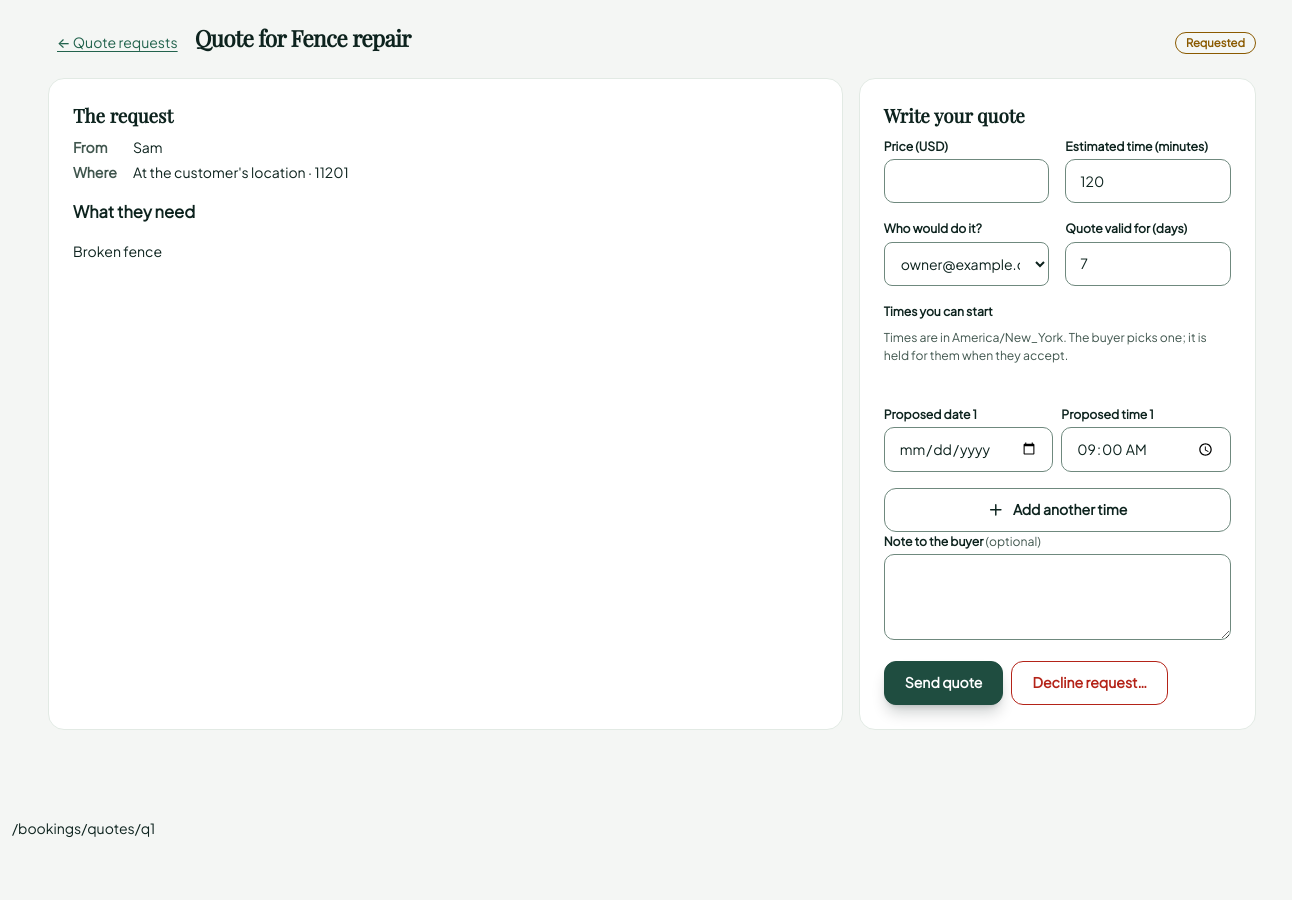
it: review fixes: quotes › reloads and says so when sending a quote hits a version conflict
Type "100" into the field labelled "Price (USD)" at (967, 182), box [884,160,1049,204]
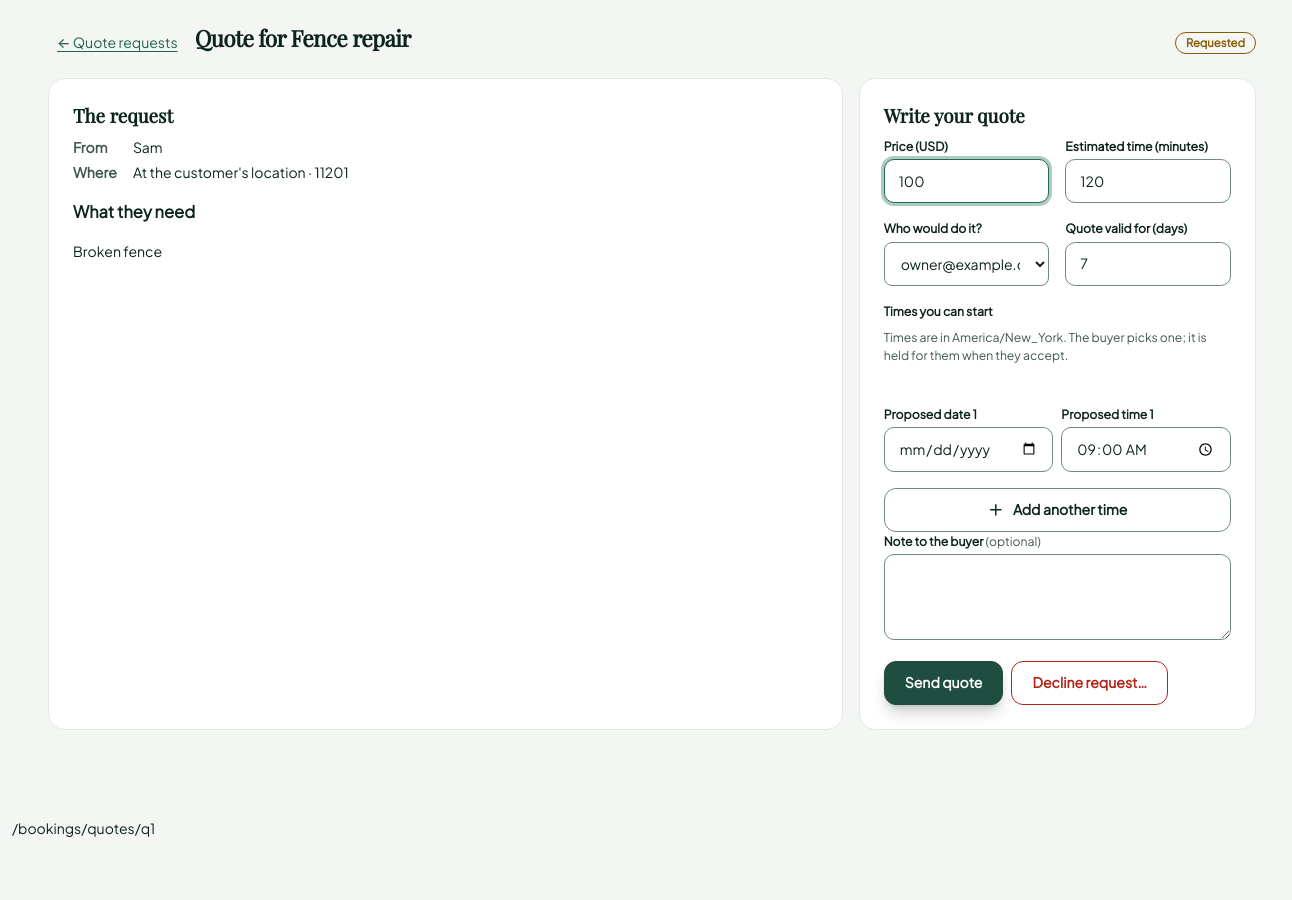
Type "2030-02-05" into the date field labelled "Proposed date 1" at (969, 449), box [884,427,1053,472]
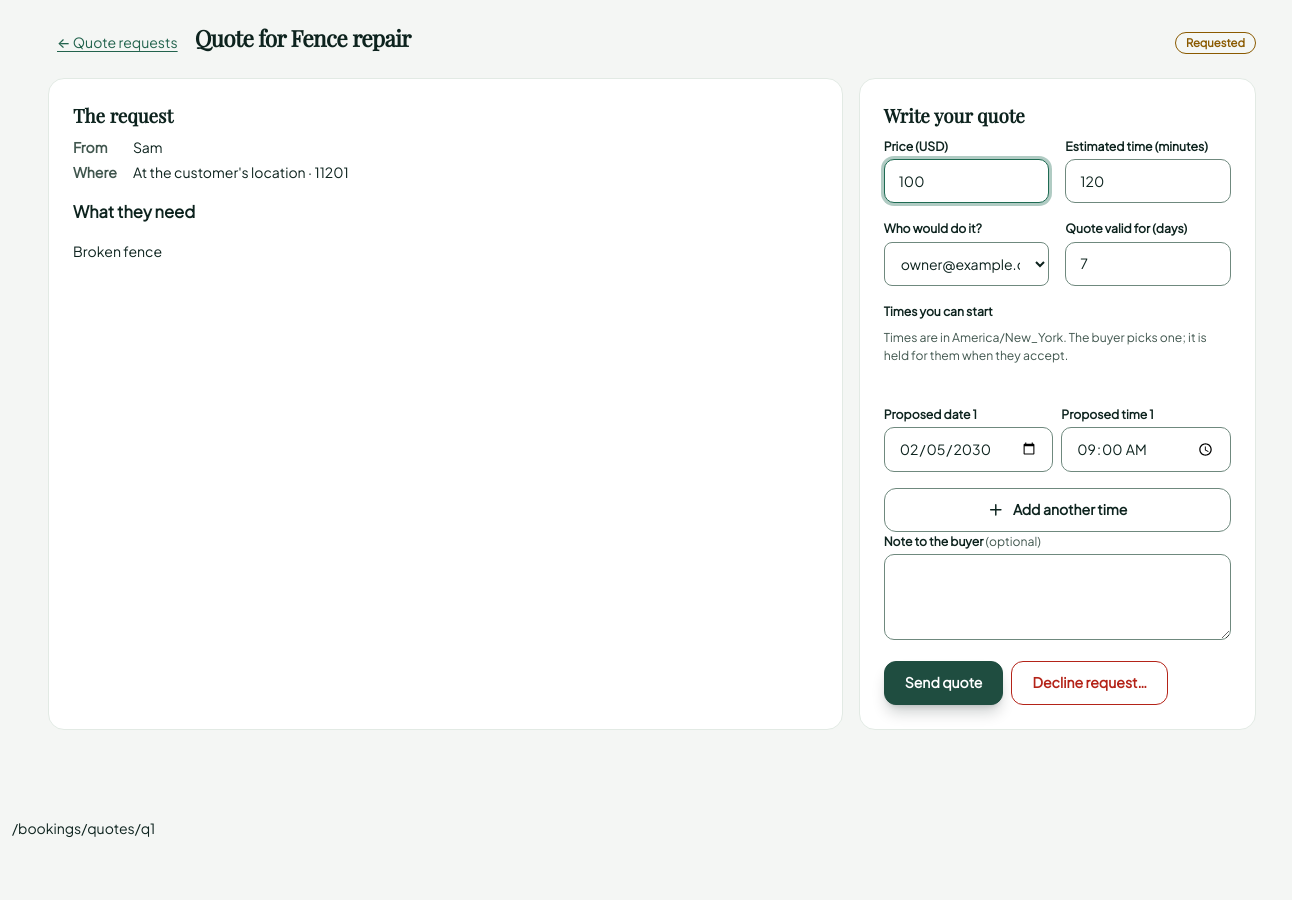
Click the button "Send quote" at (944, 683), box [884,661,1004,705]
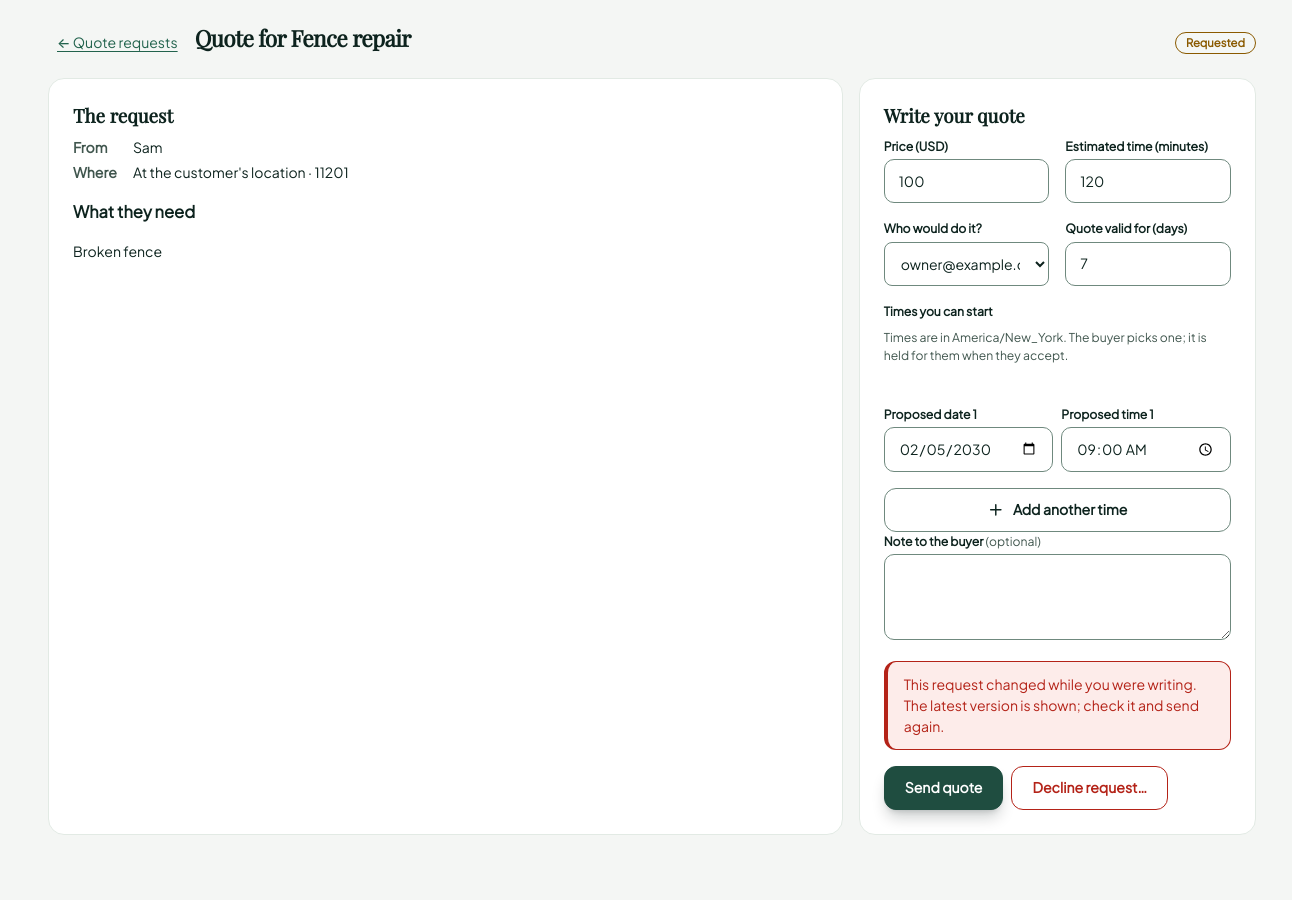
Expected: the text "This request changed while you were writing" is shown, [904,675,1199,735]
